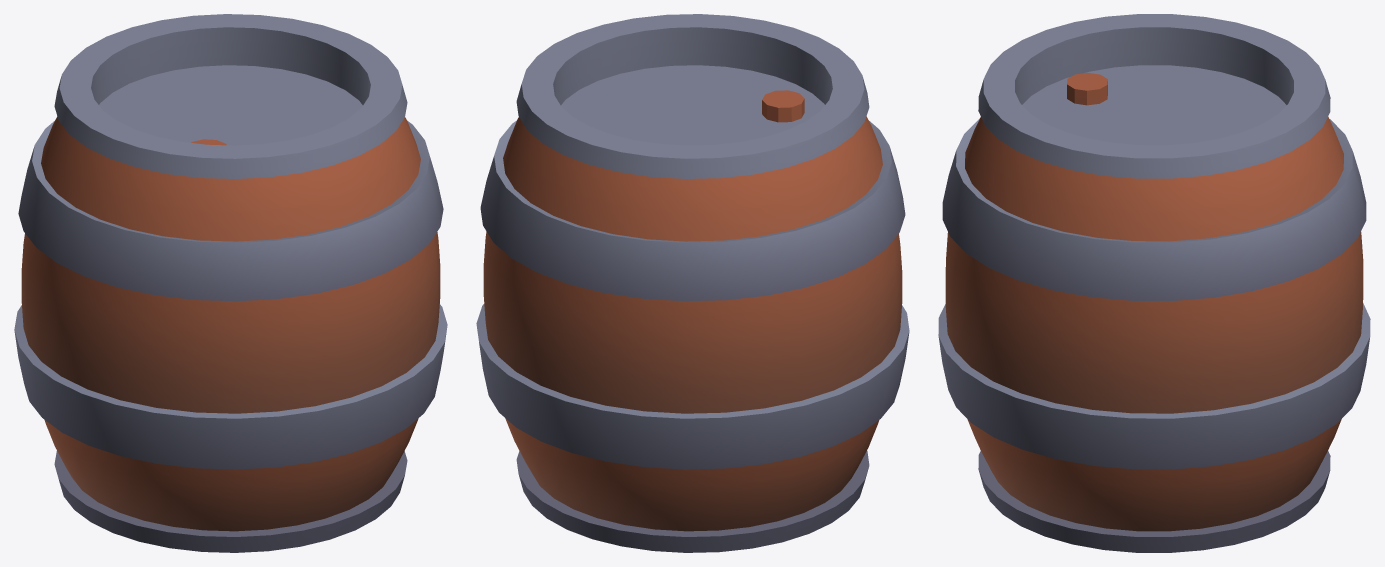
Rendered from Barrel.fbx.
The picture shows the model from 3 angles, left to right: view 1: azimuth 30°, elevation 25°; view 2: azimuth 150°, elevation 25°; view 3: azimuth 270°, elevation 25°; orthographic projection.
Parts seen in each view (by area): view 1: Circle.003; view 2: Circle.003; view 3: Circle.003.
Boxes of the visible parts, x1=… form: Circle.003: x1=14, y1=14, x2=447, y2=552; Circle.003: x1=476, y1=14, x2=909, y2=552; Circle.003: x1=938, y1=14, x2=1370, y2=552.
Size of the model in its own units: 53.11 by 53.51 by 53.11.
